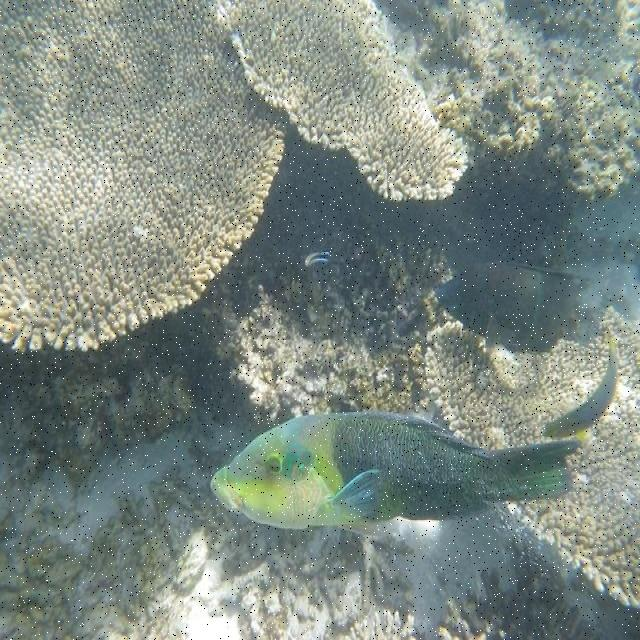fish: (210, 411, 582, 537), (433, 260, 604, 354), (538, 327, 617, 442), (305, 246, 336, 266)
reefs: (200, 124, 576, 431), (0, 2, 288, 352), (424, 305, 639, 608), (376, 0, 639, 205), (217, 1, 470, 203)
